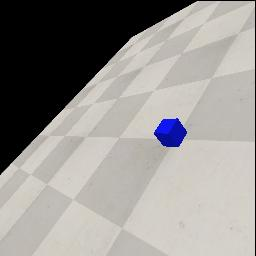box: (154, 118, 187, 147)
